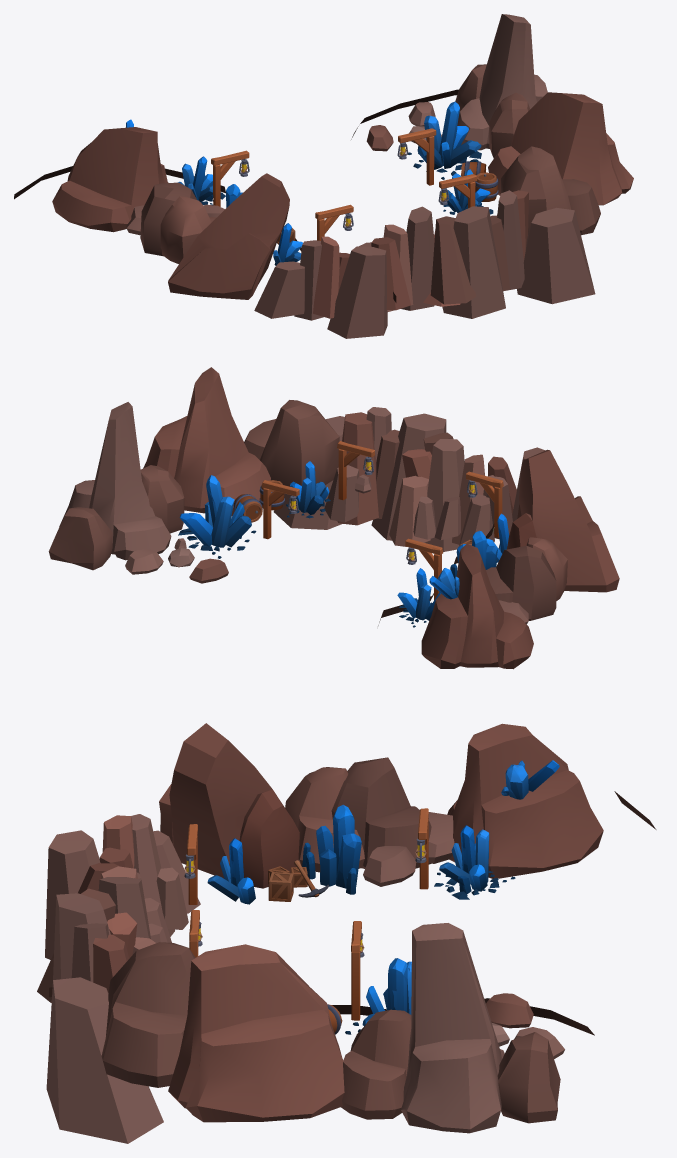
3 views of the same model, one above another, from view 1: azimuth 30°, elevation 25°; view 2: azimuth 150°, elevation 25°; view 3: azimuth 270°, elevation 25° (orthographic). The views are drawn at different scales.
Parts seen in each view (by area): view 1: Map03_Environment; view 2: Map03_Environment; view 3: Map03_Environment.
Part boxes in pixels (<box>): Map03_Environment: <box>14,14,633,338</box>; Map03_Environment: <box>48,367,619,669</box>; Map03_Environment: <box>37,723,656,1143</box>.
Size of the model in its own units: 46.67 by 14.57 by 35.22.
Materials: 1 (1 with a texture image).
